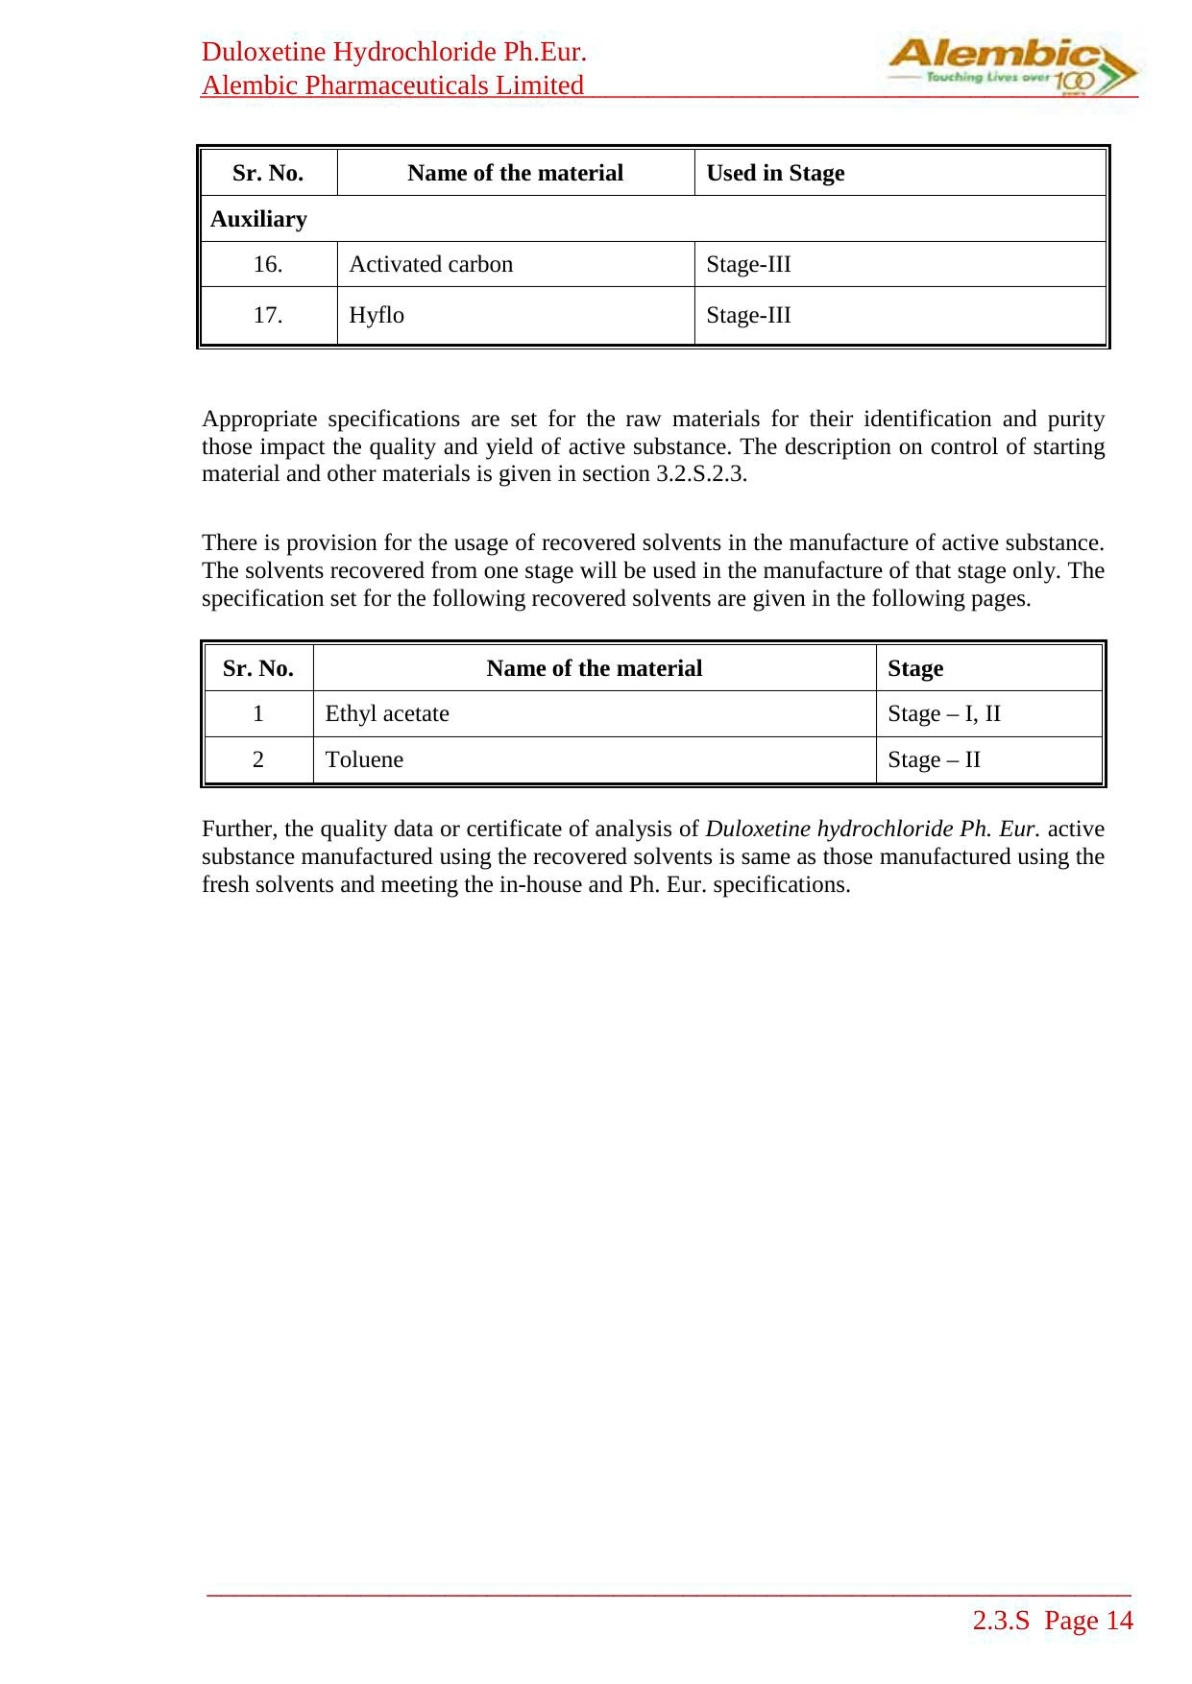full_lined: (197, 638, 1109, 790)
merged_cells: (195, 142, 1112, 351)
